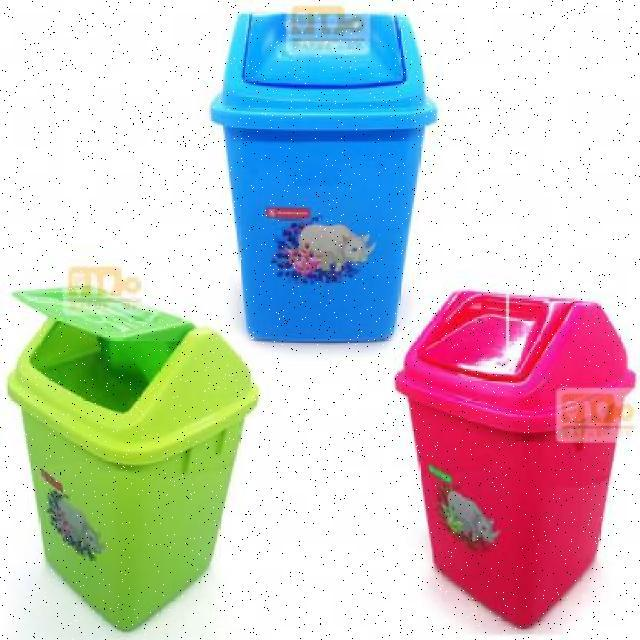garbage container: (2, 281, 270, 640), (394, 289, 640, 640), (199, 6, 425, 365)
